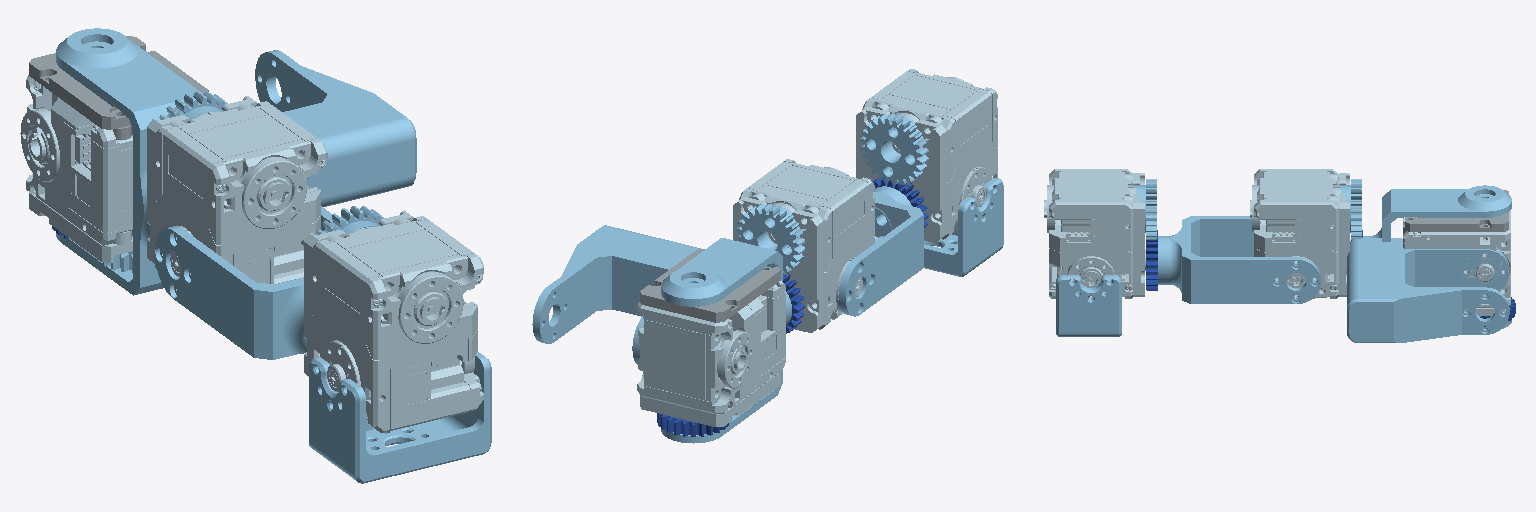
robot.urdf — left_arm_hand:
<?xml version="1.0" ?><robot name="left_arm_hand">  
  <link name="sho_pitch_link">    
    <visual>      
      <origin xyz="0 0 0" rpy="0 -0 0"/>      
      <geometry>        
        <mesh filename="package:///meshes/left_sho_pitch_link_visual.stl"/>        
      </geometry>      
      <material name="sho_pitch_link_material">        
        <color rgba="0.61568627450980395466 0.81176470588235294379 0.92941176470588227065 1.0"/>        
      </material>      
    </visual>    
    <collision>      
      <origin xyz="0 0 0" rpy="0 -0 0"/>      
      <geometry>        
        <mesh filename="package:///meshes/left_sho_pitch_link_collision.stl"/>        
      </geometry>      
    </collision>    
    <inertial>      
      <origin xyz="5.8254247124065067049e-11 -5.1264642561121189358e-05 0.008244078812709491888" rpy="0 0 0"/>      
      <mass value="0.0085999999999999948014"/>      
      <inertia ixx="1.2272887040545791873e-06" ixy="-2.1429944214128713904e-14" ixz="-8.5847197933828805347e-15" iyy="2.9107306060364615853e-06" iyz="7.4623841398183150184e-09" izz="3.0803135950773483457e-06"/>      
    </inertial>    
  </link>  

  <link name="2xl430_gears">    
    <visual>      
      <origin xyz="0 0 0" rpy="0 -0 0"/>      
      <geometry>        
        <mesh filename="package:///meshes/left_2xl430_gears_visual.stl"/>        
      </geometry>      
      <material name="2xl430_gears_material">        
        <color rgba="0.7560598568794409946 0.8580469596269301169 0.91320266199377464478 1.0"/>        
      </material>      
    </visual>    
    <collision>      
      <origin xyz="0 0 0" rpy="0 -0 0"/>      
      <geometry>        
        <mesh filename="package:///meshes/left_2xl430_gears_collision.stl"/>        
      </geometry>      
    </collision>    
    <inertial>      
      <origin xyz="-0.011579403981037360988 -0.0024225766141417266926 -0.018551095523800655712" rpy="0 0 0"/>      
      <mass value="0.11800003674524910113"/>      
      <inertia ixx="2.7482298083236793355e-05" ixy="9.27296234328931159e-07" ixz="-2.2634512003524385451e-08" iyy="3.2770742486672269382e-05" iyz="-6.5708346020024807423e-07" izz="3.5767957544055383823e-05"/>      
    </inertial>    
  </link>  

  <link name="spur_1m_24t_drive">    
    <visual>      
      <origin xyz="0 0 0" rpy="0 -0 0"/>      
      <geometry>        
        <mesh filename="package:///meshes/left_spur_1m_24t_drive_visual.stl"/>        
      </geometry>      
      <material name="spur_1m_24t_drive_material">        
        <color rgba="0.61568627450980406568 0.81176470588235294379 0.92941176470588238168 1.0"/>        
      </material>      
    </visual>    
    <collision>      
      <origin xyz="0 0 0" rpy="0 -0 0"/>      
      <geometry>        
        <mesh filename="package:///meshes/left_spur_1m_24t_drive_collision.stl"/>        
      </geometry>      
    </collision>    
    <inertial>      
      <origin xyz="-7.7521299884412313712e-15 -1.2124789402396008467e-16 0.0047949116178401416863" rpy="0 0 0"/>      
      <mass value="0.0032000000000000001533"/>      
      <inertia ixx="1.4019331346159887702e-07" ixy="1.6002409981164973256e-15" ixz="4.7946470804245936281e-36" iyy="1.4019331260388780891e-07" iyz="5.8892187466235131117e-38" izz="2.3838919844264060647e-07"/>      
    </inertial>    
  </link>  

  <joint name="left_sho_yaw_drive" type="revolute">    
    <origin xyz="-0.024000000716141008106 -0.019000000152450610691 -0.019000000152443286688" rpy="1.5707963267948328312 -1.2293716347296049066e-15 1.010090991001174754e-13"/>    
    <parent link="2xl430_gears"/>    
    <child link="spur_1m_24t_drive"/>    
    <axis xyz="0 0 1"/>    
    <limit effort="1" velocity="20" lower="-2.6179938779914944114" upper="2.6179938779914944114"/>    
    <joint_properties friction="0.0"/>    
  </joint>  

  <link name="spur_1m_24t_driven">    
    <visual>      
      <origin xyz="0 0 0" rpy="0 -0 0"/>      
      <geometry>        
        <mesh filename="package:///meshes/left_spur_1m_24t_driven_visual.stl"/>        
      </geometry>      
      <material name="spur_1m_24t_driven_material">        
        <color rgba="0.23137254901960788156 0.38039215686274507888 0.7058823529411765163 1.0"/>        
      </material>      
    </visual>    
    <collision>      
      <origin xyz="0 0 0" rpy="0 -0 0"/>      
      <geometry>        
        <mesh filename="package:///meshes/left_spur_1m_24t_driven_collision.stl"/>        
      </geometry>      
    </collision>    
    <inertial>      
      <origin xyz="2.2397001460355586784e-18 -5.8049232035347791036e-15 -0.00097054817521928168911" rpy="0 0 0"/>      
      <mass value="0.0027000000000000001429"/>      
      <inertia ixx="1.2036234079571068356e-07" ixy="2.3143854122158616772e-37" ixz="1.997945151452848074e-36" iyy="1.203623407957104718e-07" iyz="7.4023932797854780927e-38" izz="2.2847261745924537963e-07"/>      
    </inertial>    
  </link>  

  <link name="sho_yaw_link">    
    <visual>      
      <origin xyz="0 0 0" rpy="0 -0 0"/>      
      <geometry>        
        <mesh filename="package:///meshes/left_sho_yaw_link_visual.stl"/>        
      </geometry>      
      <material name="sho_yaw_link_material">        
        <color rgba="0.61568627450980395466 0.81176470588235294379 0.92941176470588238168 1.0"/>        
      </material>      
    </visual>    
    <collision>      
      <origin xyz="0 0 0" rpy="0 -0 0"/>      
      <geometry>        
        <mesh filename="package:///meshes/left_sho_yaw_link_collision.stl"/>        
      </geometry>      
    </collision>    
    <inertial>      
      <origin xyz="-1.2817564279971507841e-18 4.7153820572931408839e-18 -0.024303257848520172513" rpy="0 0 0"/>      
      <mass value="0.014500000000000011144"/>      
      <inertia ixx="9.0846670053041365841e-06" ixy="3.6224092806394641693e-13" ixz="-1.1169724140036854531e-42" iyy="5.6910950712097533498e-06" iyz="-1.6823666350894933297e-35" izz="4.481960984554900134e-06"/>      
    </inertial>    
  </link>  

  <link name="2xl430_gears_2">    
    <visual>      
      <origin xyz="0 0 0" rpy="0 -0 0"/>      
      <geometry>        
        <mesh filename="package:///meshes/left_2xl430_gears_2_visual.stl"/>        
      </geometry>      
      <material name="2xl430_gears_2_material">        
        <color rgba="0.7560598568794409946 0.8580469596269301169 0.91320266199377464478 1.0"/>        
      </material>      
    </visual>    
    <collision>      
      <origin xyz="0 0 0" rpy="0 -0 0"/>      
      <geometry>        
        <mesh filename="package:///meshes/left_2xl430_gears_2_collision.stl"/>        
      </geometry>      
    </collision>    
    <inertial>      
      <origin xyz="-0.011579403981035896881 -0.0024225766141403115919 -0.018551095523804770476" rpy="0 0 0"/>      
      <mass value="0.11800003674524910113"/>      
      <inertia ixx="2.7482298083236654442e-05" ixy="9.2729623433076445593e-07" ixz="-2.2634512003936003758e-08" iyy="3.2770742486673190954e-05" iyz="-6.5708346020168083046e-07" izz="3.5767957544054929813e-05"/>      
    </inertial>    
  </link>  

  <link name="spur_1m_24t_drive_2">    
    <visual>      
      <origin xyz="0 0 0" rpy="0 -0 0"/>      
      <geometry>        
        <mesh filename="package:///meshes/left_spur_1m_24t_drive_2_visual.stl"/>        
      </geometry>      
      <material name="spur_1m_24t_drive_2_material">        
        <color rgba="0.61568627450980406568 0.81176470588235294379 0.92941176470588238168 1.0"/>        
      </material>      
    </visual>    
    <collision>      
      <origin xyz="0 0 0" rpy="0 -0 0"/>      
      <geometry>        
        <mesh filename="package:///meshes/left_spur_1m_24t_drive_2_collision.stl"/>        
      </geometry>      
    </collision>    
    <inertial>      
      <origin xyz="-7.7451910945373241428e-15 -1.2124789399811088775e-16 0.0047949116178401382168" rpy="0 0 0"/>      
      <mass value="0.0032000000000000001533"/>      
      <inertia ixx="1.4019331346159882408e-07" ixy="1.6002410021796695823e-15" ixz="7.2624323102412275718e-37" iyy="1.4019331260388786185e-07" iyz="-1.913237371173209661e-36" izz="2.3838919844264060647e-07"/>      
    </inertial>    
  </link>  

  <joint name="left_elbow_yaw_drive" type="revolute">    
    <origin xyz="-0.024000000716141021984 -0.019000000152448556778 -0.019000000152448459634" rpy="1.5707963267949303088 5.3222446619528222415e-15 1.3540958880671982531e-14"/>    
    <parent link="2xl430_gears_2"/>    
    <child link="spur_1m_24t_drive_2"/>    
    <axis xyz="0 0 1"/>    
    <limit effort="1" velocity="20" lower="-2.6179938779914944114" upper="2.6179938779914944114"/>    
    <joint_properties friction="0.0"/>    
  </joint>  

  <link name="spur_1m_24t_driven_2">    
    <visual>      
      <origin xyz="0 0 0" rpy="0 -0 0"/>      
      <geometry>        
        <mesh filename="package:///meshes/left_spur_1m_24t_driven_2_visual.stl"/>        
      </geometry>      
      <material name="spur_1m_24t_driven_2_material">        
        <color rgba="0.23137254901960788156 0.38039215686274507888 0.7058823529411765163 1.0"/>        
      </material>      
    </visual>    
    <collision>      
      <origin xyz="0 0 0" rpy="0 -0 0"/>      
      <geometry>        
        <mesh filename="package:///meshes/left_spur_1m_24t_driven_2_collision.stl"/>        
      </geometry>      
    </collision>    
    <inertial>      
      <origin xyz="2.2397001460329243915e-18 -5.8016925627086605558e-15 -0.00097054817521926087243" rpy="0 0 0"/>      
      <mass value="0.0027000000000000001429"/>      
      <inertia ixx="1.2036234079571068356e-07" ixy="9.9602247399529490245e-51" ixz="-1.0366477169058966631e-36" iyy="1.203623407957104718e-07" iyz="-1.2085112922539601106e-37" izz="2.2847261745924537963e-07"/>      
    </inertial>    
  </link>  

  <link name="elb_yaw_link">    
    <visual>      
      <origin xyz="0 0 0" rpy="0 -0 0"/>      
      <geometry>        
        <mesh filename="package:///meshes/left_elb_yaw_link_visual.stl"/>        
      </geometry>      
      <material name="elb_yaw_link_material">        
        <color rgba="0.61568627450980395466 0.81176470588235294379 0.92941176470588238168 1.0"/>        
      </material>      
    </visual>    
    <collision>      
      <origin xyz="0 0 0" rpy="0 -0 0"/>      
      <geometry>        
        <mesh filename="package:///meshes/left_elb_yaw_link_collision.stl"/>        
      </geometry>      
    </collision>    
    <inertial>      
      <origin xyz="5.3127688027629610046e-08 0.0019833638641961717948 -0.023416643551549959357" rpy="0 0 0"/>      
      <mass value="0.017500000000000012074"/>      
      <inertia ixx="1.4134344903109206552e-05" ixy="1.6945783921985188756e-12" ixz="-1.128639872184044645e-11" iyy="6.6435900776211374285e-06" iyz="1.054522707725306605e-06" izz="8.9925290757999027595e-06"/>      
    </inertial>    
  </link>  

  <link name="spur_1m_24t_driven_3">    
    <visual>      
      <origin xyz="0 0 0" rpy="0 -0 0"/>      
      <geometry>        
        <mesh filename="package:///meshes/left_spur_1m_24t_driven_3_visual.stl"/>        
      </geometry>      
      <material name="spur_1m_24t_driven_3_material">        
        <color rgba="0.23137254901960788156 0.38039215686274507888 0.7058823529411765163 1.0"/>        
      </material>      
    </visual>    
    <collision>      
      <origin xyz="0 0 0" rpy="0 -0 0"/>      
      <geometry>        
        <mesh filename="package:///meshes/left_spur_1m_24t_driven_3_collision.stl"/>        
      </geometry>      
    </collision>    
    <inertial>      
      <origin xyz="2.2397001460355906489e-18 -5.8049232035347830479e-15 -0.0025705481752192789469" rpy="0 0 0"/>      
      <mass value="0.0027000000000000001429"/>      
      <inertia ixx="1.203623407957107365e-07" ixy="-7.335444030144370941e-37" ixz="2.7470302194174380249e-36" iyy="1.203623407957104718e-07" iyz="1.1009077040348589054e-36" izz="2.2847261745924548551e-07"/>      
    </inertial>    
  </link>  

  <link name="2xl430_gears_3">    
    <visual>      
      <origin xyz="0 0 0" rpy="0 -0 0"/>      
      <geometry>        
        <mesh filename="package:///meshes/left_2xl430_gears_3_visual.stl"/>        
      </geometry>      
      <material name="2xl430_gears_3_material">        
        <color rgba="0.7560598568794409946 0.8580469596269301169 0.91320266199377464478 1.0"/>        
      </material>      
    </visual>    
    <collision>      
      <origin xyz="0 0 0" rpy="0 -0 0"/>      
      <geometry>        
        <mesh filename="package:///meshes/left_2xl430_gears_3_collision.stl"/>        
      </geometry>      
    </collision>    
    <inertial>      
      <origin xyz="0.00044890447620269448856 0.011579403622953165012 -0.02457742353830994278" rpy="0 0 0"/>      
      <mass value="0.11800003674524910113"/>      
      <inertia ixx="3.5767957544054848498e-05" ixy="2.2634512003715232562e-08" ixz="6.5708346020249281742e-07" iyy="2.7482298083237877558e-05" iyz="9.272962343322649748e-07" izz="3.2770742486671869582e-05"/>      
    </inertial>    
  </link>  

  <link name="spur_1m_24t_drive_3">    
    <visual>      
      <origin xyz="0 0 0" rpy="0 -0 0"/>      
      <geometry>        
        <mesh filename="package:///meshes/left_spur_1m_24t_drive_3_visual.stl"/>        
      </geometry>      
      <material name="spur_1m_24t_drive_3_material">        
        <color rgba="0.61568627450980406568 0.81176470588235294379 0.92941176470588238168 1.0"/>        
      </material>      
    </visual>    
    <collision>      
      <origin xyz="0 0 0" rpy="0 -0 0"/>      
      <geometry>        
        <mesh filename="package:///meshes/left_spur_1m_24t_drive_3_collision.stl"/>        
      </geometry>      
    </collision>    
    <inertial>      
      <origin xyz="-7.7521299884412313712e-15 -1.2124789402396008467e-16 0.0047949116178401416863" rpy="0 0 0"/>      
      <mass value="0.0032000000000000001533"/>      
      <inertia ixx="1.4019331346159887702e-07" ixy="1.6002410001197768567e-15" ixz="1.603015804855940346e-36" iyy="1.4019331260388783538e-07" iyz="-1.0287878595714031604e-36" izz="2.3838919844264060647e-07"/>      
    </inertial>    
  </link>  

  <joint name="left_wrist_pitch_drive" type="revolute">    
    <origin xyz="-1.5244060454932558359e-10 0.024000000358057327343 -0.0080000000000068800798" rpy="3.9435158482369467881e-14 -2.1741514499400786903e-13 -1.5707963267949176522"/>    
    <parent link="2xl430_gears_3"/>    
    <child link="spur_1m_24t_drive_3"/>    
    <axis xyz="0 0 1"/>    
    <limit effort="1" velocity="20" lower="-1.9198621771937625091" upper="1.3962634015954635824"/>    
    <joint_properties friction="0.0"/>    
  </joint>  

  <link name="hand">    
    <visual>      
      <origin xyz="0 0 0" rpy="0 -0 0"/>      
      <geometry>        
        <mesh filename="package:///meshes/left_hand_visual.stl"/>        
      </geometry>      
      <material name="hand_material">        
        <color rgba="0.61568627450980395466 0.81176470588235294379 0.9294117647058824927 1.0"/>        
      </material>      
    </visual>    
    <collision>      
      <origin xyz="0 0 0" rpy="0 -0 0"/>      
      <geometry>        
        <mesh filename="package:///meshes/left_hand_collision.stl"/>        
      </geometry>      
    </collision>    
    <inertial>      
      <origin xyz="-2.489950859175186028e-10 0.040594531666389023494 0.019479063914252029571" rpy="0 0 0"/>      
      <mass value="0.017000000000001444511"/>      
      <inertia ixx="9.218759418532233686e-06" ixy="-1.5922040974697183607e-15" ixz="-1.0539511471482342536e-13" iyy="6.6718567758212696226e-06" iyz="2.1533596775200800956e-08" izz="3.7788698411876589991e-06"/>      
    </inertial>    
  </link>  

  <joint name="left_wrist_roll" type="revolute">    
    <origin xyz="0.019000000000007042505 -3.5808098153289336096e-10 -0.027000000152448057344" rpy="-3.1415926535897193972 1.5707963267946853936 0"/>    
    <parent link="2xl430_gears_3"/>    
    <child link="hand"/>    
    <axis xyz="0 0 1"/>    
    <limit effort="1" velocity="20" lower="-1.9198621771937625091" upper="1.3962634015954635824"/>    
    <joint_properties friction="0.0"/>    
  </joint>  

  <link name="wrist_bearing_plate">    
    <visual>      
      <origin xyz="0 0 0" rpy="0 -0 0"/>      
      <geometry>        
        <mesh filename="package:///meshes/left_wrist_bearing_plate_visual.stl"/>        
      </geometry>      
      <material name="wrist_bearing_plate_material">        
        <color rgba="0.64496316278892629192 0.69011804996940528945 0.71706771073555886087 1.0"/>        
      </material>      
    </visual>    
    <collision>      
      <origin xyz="0 0 0" rpy="0 -0 0"/>      
      <geometry>        
        <mesh filename="package:///meshes/left_wrist_bearing_plate_collision.stl"/>        
      </geometry>      
    </collision>    
    <inertial>      
      <origin xyz="-0.0075835583121499827372 -0.015499999999999982542 -0.0018386323705903337943" rpy="0 0 0"/>      
      <mass value="0.0049000367468305539714"/>      
      <inertia ixx="4.9707430109150118544e-07" ixy="1.0162545076855676242e-22" ixz="1.8100904820814134509e-08" iyy="7.1268523603538510707e-07" iyz="-1.077720286065327804e-22" izz="1.1919657811600104999e-06"/>      
    </inertial>    
  </link>  

  <joint name="left_wrist_pitch_fixed" type="fixed">    
    <origin xyz="0.015500000000007823492 -1.8068879725774422695e-14 -0.044999999999998908928" rpy="5.4234394758357771884e-14 -2.8213542612434265448e-13 -1.570796326794906328"/>    
    <parent link="2xl430_gears_3"/>    
    <child link="wrist_bearing_plate"/>    
    <axis xyz="0 0 1"/>    
    <limit effort="1" velocity="20"/>    
    <joint_properties friction="0.0"/>    
  </joint>  

  <joint name="left_wrist_pitch_driven" type="revolute">    
    <origin xyz="-2.7755575615628913511e-17 -2.6687419884003641171e-18 -0.0015999999999999992093" rpy="-1.2490008944217178404e-15 -8.8817841970011517436e-16 -1.570796326794896558"/>    
    <parent link="spur_1m_24t_driven_3"/>    
    <child link="2xl430_gears_3"/>    
    <axis xyz="0 0 1"/>    
    <limit effort="1" velocity="20" lower="-1.3962634015954635824" upper="1.9198621771937625091"/>    
    <joint_properties friction="0.0"/>    
  </joint>  

  <joint name="left_wrist_roll_fixed" type="fixed">    
    <origin xyz="-2.6687419884121970307e-18 -0.025299999999999999573 -0.052000000000000032307" rpy="1.5707963267948976682 -1.5707963267948956698 0"/>    
    <parent link="elb_yaw_link"/>    
    <child link="spur_1m_24t_driven_3"/>    
    <axis xyz="0 0 1"/>    
    <limit effort="1" velocity="20"/>    
    <joint_properties friction="0.0"/>    
  </joint>  

  <joint name="left_elbow_yaw_fixed" type="fixed">    
    <origin xyz="2.6687419884145636134e-18 3.4694469519536141888e-18 0.0015999999999999903189" rpy="-3.141592653589793116 -7.7295713056774243222e-29 -3.8634032214012514384e-29"/>    
    <parent link="spur_1m_24t_driven_2"/>    
    <child link="elb_yaw_link"/>    
    <axis xyz="0 0 1"/>    
    <limit effort="1" velocity="20"/>    
    <joint_properties friction="0.0"/>    
  </joint>  

  <joint name="left_elbow_yaw_driven" type="revolute">    
    <origin xyz="-3.5806928949666527728e-10 -0.027000000152451103519 -0.019000000000003354483" rpy="1.5707963267948781283 1.57079632679478709 0"/>    
    <parent link="2xl430_gears_2"/>    
    <child link="spur_1m_24t_driven_2"/>    
    <axis xyz="0 0 1"/>    
    <limit effort="1" velocity="20" lower="-2.6179938779914944114" upper="2.6179938779914944114"/>    
    <joint_properties friction="0.0"/>    
  </joint>  

  <joint name="left_elbow_roll" type="revolute">    
    <origin xyz="1.1865508575681360526e-15 -0.018999999999999999528 -0.059000000000000024647" rpy="1.570796326794896558 -3.0035063655217005852e-13 -8.0812793815154920791e-14"/>    
    <parent link="sho_yaw_link"/>    
    <child link="2xl430_gears_2"/>    
    <axis xyz="0 0 1"/>    
    <limit effort="1" velocity="20" lower="-1.9198621771937625091" upper="2.4434609527920612138"/>    
    <joint_properties friction="0.0"/>    
  </joint>  

  <joint name="left_sho_yaw_fixed" type="fixed">    
    <origin xyz="-3.4694469519536141888e-18 3.9443045261050590271e-31 0.0016000000000000007272" rpy="3.1415926535897873428 -0 0"/>    
    <parent link="spur_1m_24t_driven"/>    
    <child link="sho_yaw_link"/>    
    <axis xyz="0 0 1"/>    
    <limit effort="1" velocity="20"/>    
    <joint_properties friction="0.0"/>    
  </joint>  

  <joint name="left_sho_yaw_driven" type="revolute">    
    <origin xyz="-3.5806878642685724401e-10 -0.027000000152450916169 -0.018999999999999881567" rpy="1.5707963267948492625 7.9618117061835143528e-14 1.0891287871571481832e-13"/>    
    <parent link="2xl430_gears"/>    
    <child link="spur_1m_24t_driven"/>    
    <axis xyz="0 0 1"/>    
    <limit effort="1" velocity="20" lower="-2.6179938779914944114" upper="2.6179938779914944114"/>    
    <joint_properties friction="0.0"/>    
  </joint>  

  <joint name="left_sho_roll" type="revolute">    
    <origin xyz="-0.018999999999999999528 0.0010000000000000084776 0.027000000000001016243" rpy="-3.141592653589793116 1.5707963267945652674 0"/>    
    <parent link="sho_pitch_link"/>    
    <child link="2xl430_gears"/>    
    <axis xyz="0 0 1"/>    
    <limit effort="1" velocity="20" lower="-1.570796326794896558" upper="0.34906585039886589561"/>    
    <joint_properties friction="0.0"/>    
  </joint>  


</robot>

--- Facts derived from the render (not from the file) ---
The picture shows the robot from 3 angles, left to right: view 1: azimuth 30°, elevation 25°; view 2: azimuth 150°, elevation 25°; view 3: azimuth 270°, elevation 25°; orthographic projection.
Robot: left_arm_hand — 14 links, 13 joints (9 revolute, 4 fixed); root link sho_pitch_link; default pose: all joints at 0.
Visible links, largest first — view 1: 2xl430_gears, 2xl430_gears_2, 2xl430_gears_3, hand, sho_pitch_link, elb_yaw_link, sho_yaw_link, wrist_bearing_plate, spur_1m_24t_drive, spur_1m_24t_drive_2; view 2: 2xl430_gears_3, 2xl430_gears, 2xl430_gears_2, hand, sho_yaw_link, elb_yaw_link, sho_pitch_link, spur_1m_24t_drive, wrist_bearing_plate, spur_1m_24t_drive_2, spur_1m_24t_driven_3, spur_1m_24t_driven_2 (+1 smaller); view 3: hand, 2xl430_gears, sho_yaw_link, 2xl430_gears_2, elb_yaw_link, sho_pitch_link, 2xl430_gears_3, wrist_bearing_plate, spur_1m_24t_drive, spur_1m_24t_drive_2, spur_1m_24t_driven.
Boxes of the visible links, bbox=[...] form: 2xl430_gears: bbox=[304, 210, 483, 432]; 2xl430_gears_2: bbox=[147, 96, 327, 284]; 2xl430_gears_3: bbox=[20, 75, 132, 262]; hand: bbox=[255, 50, 416, 206]; sho_pitch_link: bbox=[309, 352, 491, 483]; elb_yaw_link: bbox=[56, 28, 202, 295]; sho_yaw_link: bbox=[155, 206, 332, 359]; wrist_bearing_plate: bbox=[29, 36, 208, 139]; spur_1m_24t_drive: bbox=[316, 206, 384, 234]; spur_1m_24t_drive_2: bbox=[159, 91, 227, 119]; 2xl430_gears_3: bbox=[637, 280, 785, 426]; 2xl430_gears: bbox=[856, 69, 997, 242]; 2xl430_gears_2: bbox=[733, 159, 874, 332]; hand: bbox=[532, 225, 700, 364]; sho_yaw_link: bbox=[838, 186, 923, 316]; elb_yaw_link: bbox=[661, 238, 791, 443]; sho_pitch_link: bbox=[924, 178, 1003, 276]; spur_1m_24t_drive: bbox=[860, 113, 928, 185]; wrist_bearing_plate: bbox=[640, 249, 780, 322]; spur_1m_24t_drive_2: bbox=[736, 204, 804, 272]; spur_1m_24t_driven_3: bbox=[657, 413, 728, 436]; spur_1m_24t_driven_2: bbox=[783, 273, 804, 333]; hand: bbox=[1347, 238, 1509, 342]; 2xl430_gears: bbox=[1044, 169, 1145, 298]; sho_yaw_link: bbox=[1158, 216, 1320, 303]; 2xl430_gears_2: bbox=[1250, 169, 1349, 298]; elb_yaw_link: bbox=[1363, 185, 1511, 328]; sho_pitch_link: bbox=[1056, 275, 1121, 336]; 2xl430_gears_3: bbox=[1403, 210, 1510, 316]; wrist_bearing_plate: bbox=[1403, 190, 1508, 233]; spur_1m_24t_drive: bbox=[1136, 179, 1156, 239]; spur_1m_24t_drive_2: bbox=[1341, 179, 1361, 239]; spur_1m_24t_driven: bbox=[1146, 230, 1157, 290].
Bounding box of the posed robot: 0.0915 × 0.2012 × 0.0652 m (x, y, z).
Meshes: 14 distinct files referenced, 14 mesh visuals loaded (14 binary STL).